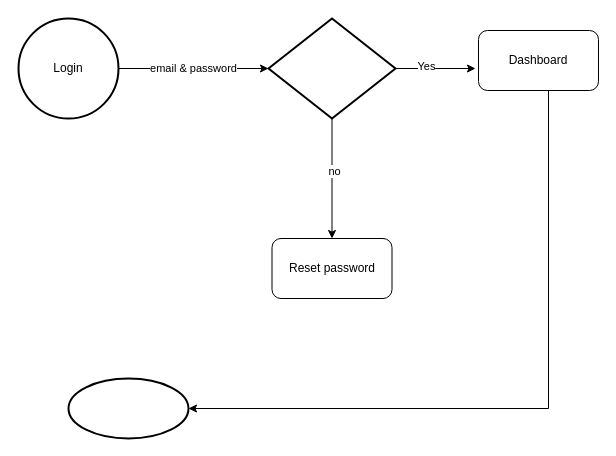
The diagram is 616 pixels wide and 456 high, and some of its shapes have lost their labels. The shapes that lost their labels are listed below. From the top down, each one's box as (x1, y1, x2, y2) in pixels, then its label:
(267, 17, 396, 119): password correct
(67, 377, 189, 439): LOG OUT
